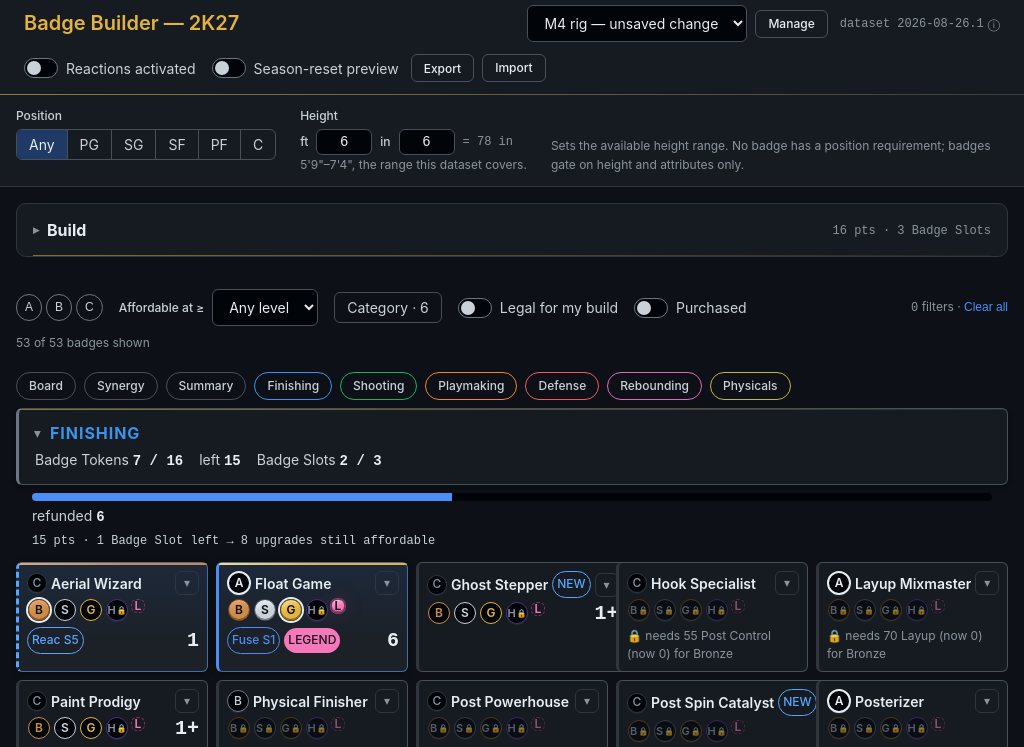
Scenario: H2(b) — primary-row invariance regression (the real control, ship gate) › season reset marks the temporary slot's card and synergy row as preview-disabled, controls stay operable
Click the switch labelled "Season-reset preview" at point(305, 68), box left=212, top=58, right=399, bottom=78
(page scrolled)
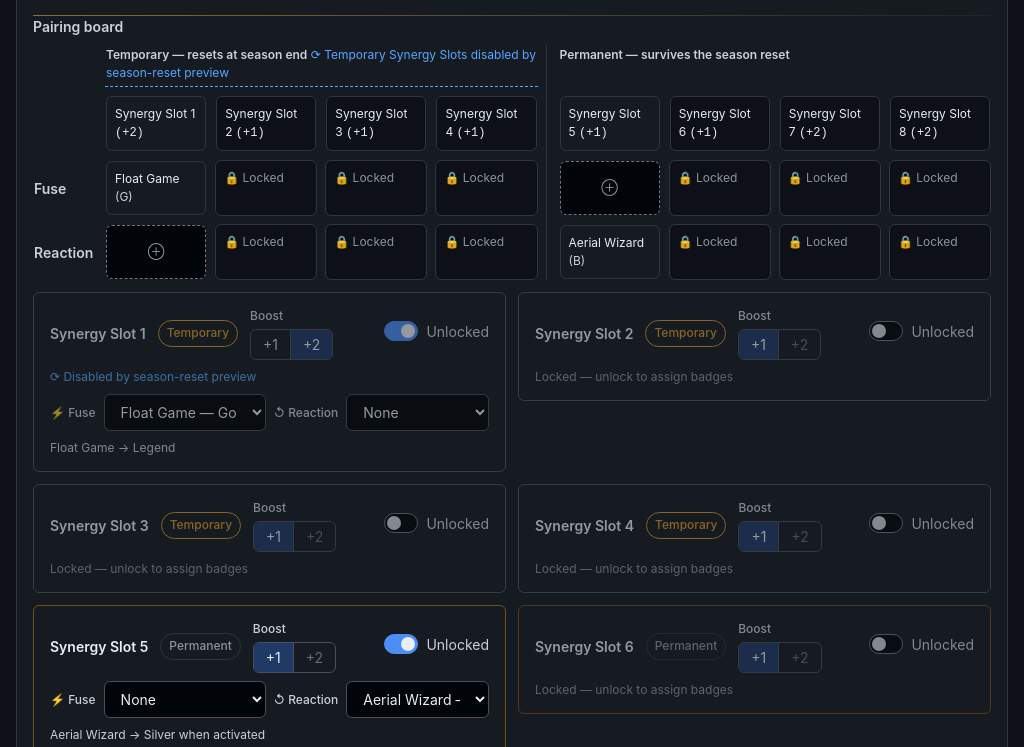
Result: the text "⟳ Disabled by season-reset preview" is shown at left=50, top=369, right=256, bottom=384
